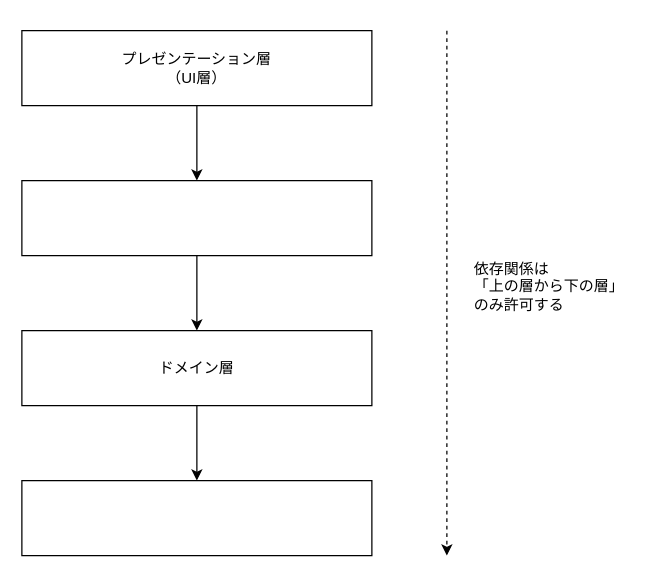
This 669x588 diagram has some shape labels left out. Here are the shapes that lost their labels. From the top down, the box of each, then its label:
(21, 179, 372, 256): ユースケース層 （アプリケーション層）
(21, 479, 372, 556): インフラ層
